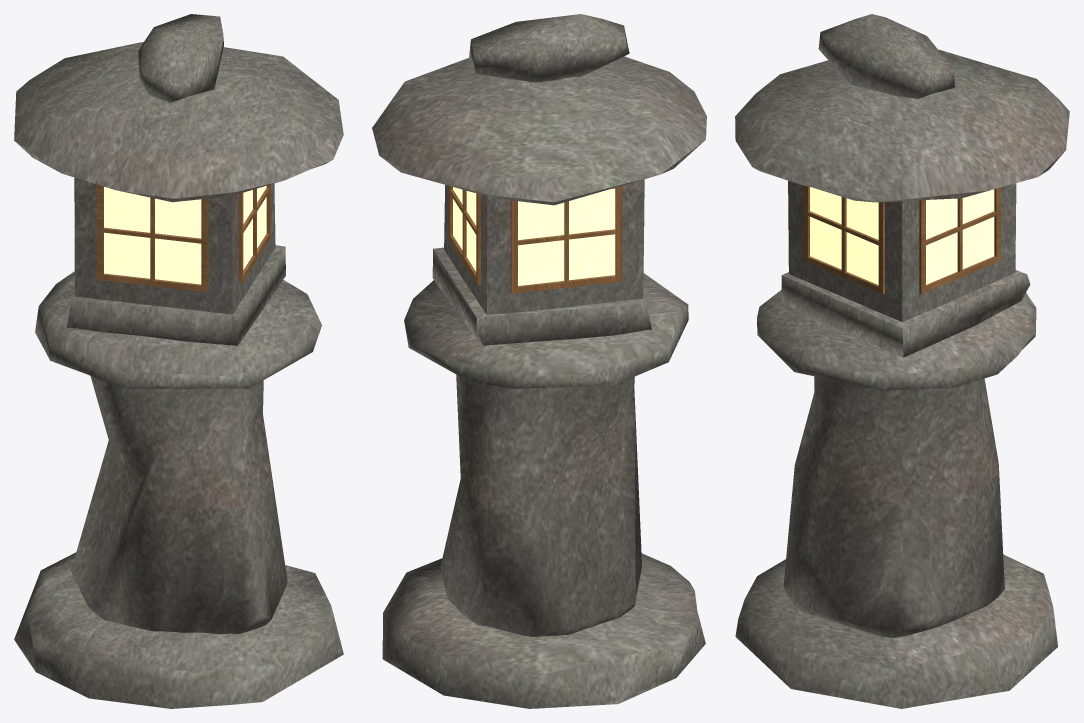
The model's file is stone_lantern.glb.
The picture shows the model from 3 angles, left to right: view 1: azimuth 30°, elevation 25°; view 2: azimuth 150°, elevation 25°; view 3: azimuth 270°, elevation 25°; orthographic projection.
Visible parts, largest first — view 1: Lamp_Pedra Lanterna_0, Emitter_led Falloff_0, Frame_Madeira_0; view 2: Lamp_Pedra Lanterna_0, Emitter_led Falloff_0, Frame_Madeira_0; view 3: Lamp_Pedra Lanterna_0, Emitter_led Falloff_0, Frame_Madeira_0.
Part boxes in pixels (left/top/right/bottom): Lamp_Pedra Lanterna_0: left=14, top=14, right=343, bottom=708; Emitter_led Falloff_0: left=104, top=186, right=266, bottom=284; Frame_Madeira_0: left=97, top=184, right=270, bottom=292; Lamp_Pedra Lanterna_0: left=372, top=14, right=706, bottom=708; Emitter_led Falloff_0: left=453, top=187, right=615, bottom=285; Frame_Madeira_0: left=448, top=185, right=622, bottom=293; Lamp_Pedra Lanterna_0: left=735, top=14, right=1069, bottom=708; Emitter_led Falloff_0: left=810, top=187, right=994, bottom=284; Frame_Madeira_0: left=803, top=185, right=1000, bottom=294.
Bounding box in the file's own units: 0.6143 × 1.27 × 0.6246.
3 materials, 3 textured.
